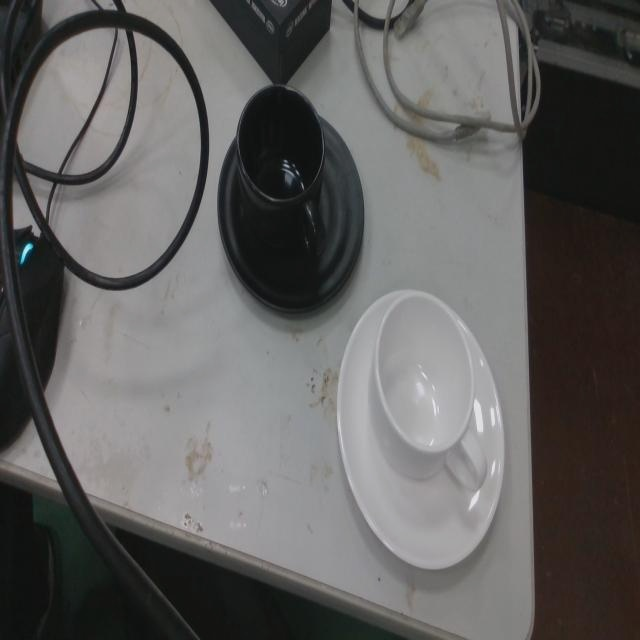black: (215, 80, 367, 322)
white: (334, 284, 507, 574)
